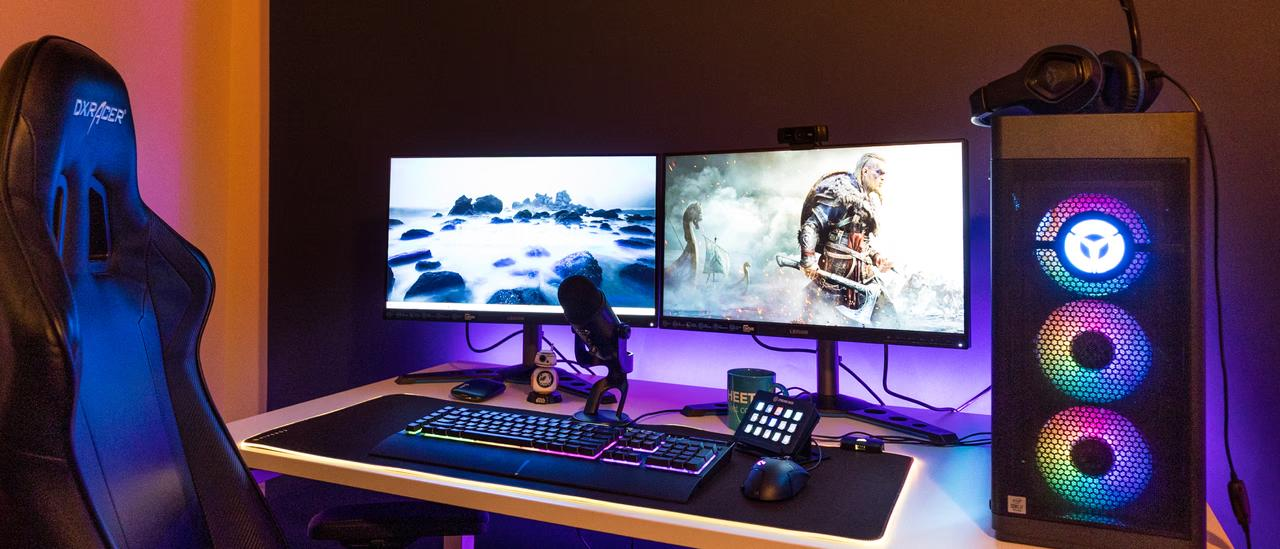keyboard: (368, 394, 739, 514)
monitor: (647, 130, 979, 351), (376, 146, 670, 339)
mouse: (736, 446, 815, 508)
pc: (984, 108, 1215, 549)
